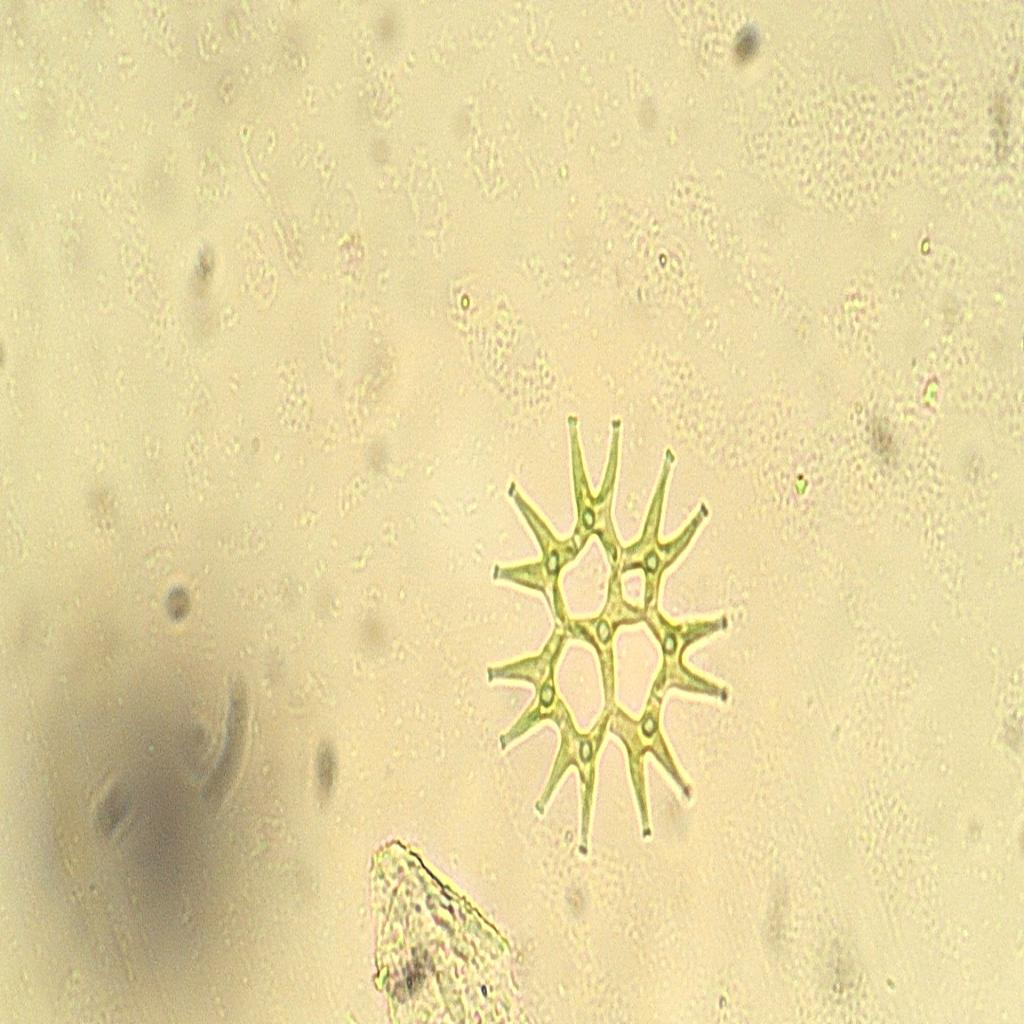Pediastrum_75T: (474, 406, 738, 872)
